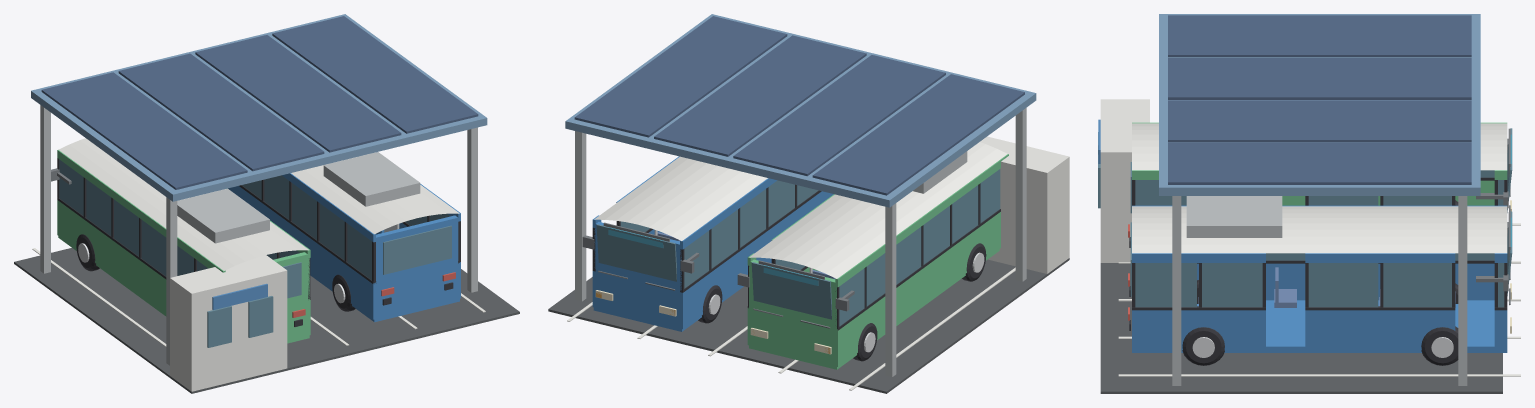
Rendered from bus-depot.fbx.
3 renders of one model, left to right at view 1: azimuth 30°, elevation 25°; view 2: azimuth 150°, elevation 25°; view 3: azimuth 270°, elevation 25°, orthographic. The views are drawn at different scales.
Parts seen in each view (by area): view 1: bus-depot; view 2: bus-depot; view 3: bus-depot.
Part boxes in pixels (bbox=[...]): bus-depot: bbox=[14, 14, 519, 393]; bus-depot: bbox=[548, 14, 1069, 393]; bus-depot: bbox=[1098, 14, 1520, 393].
Size of the model in its own units: 960 by 506 by 946.
